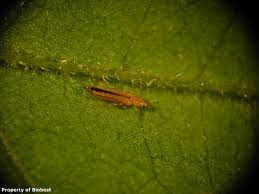Thrips: (82, 75, 153, 117)
